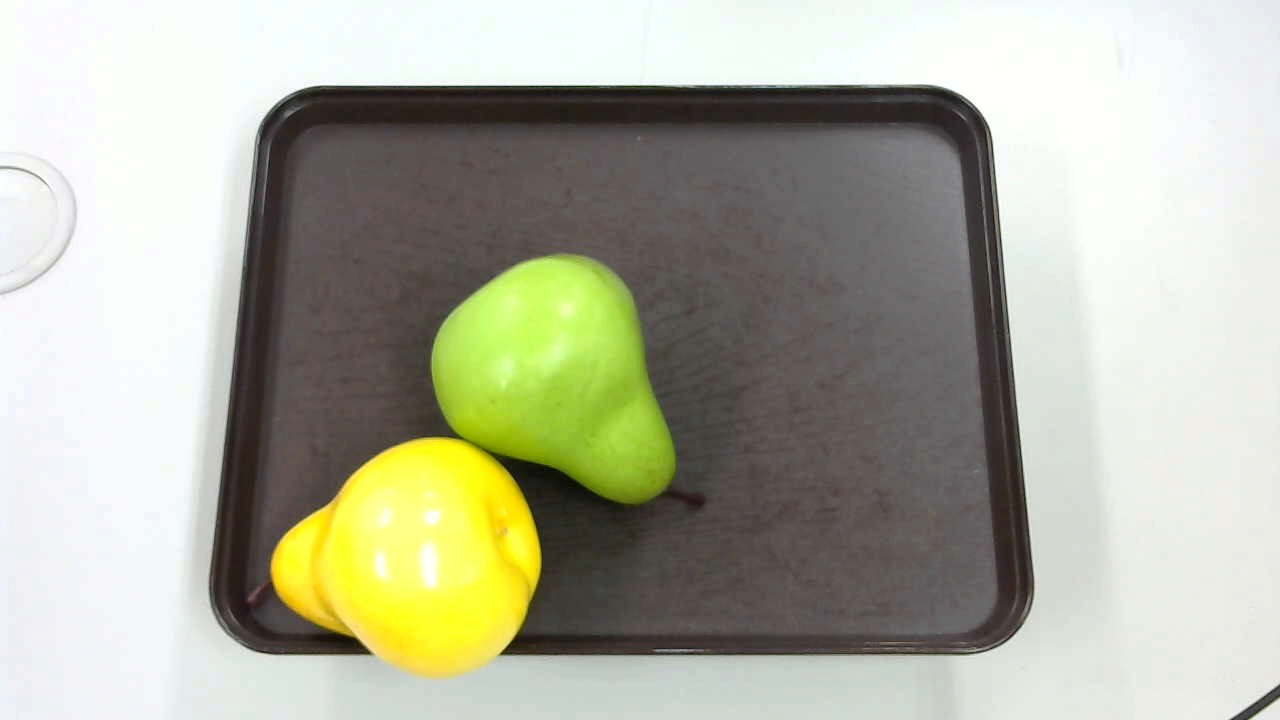green pear: (423, 248, 710, 518)
yellow pear: (240, 439, 552, 672)
